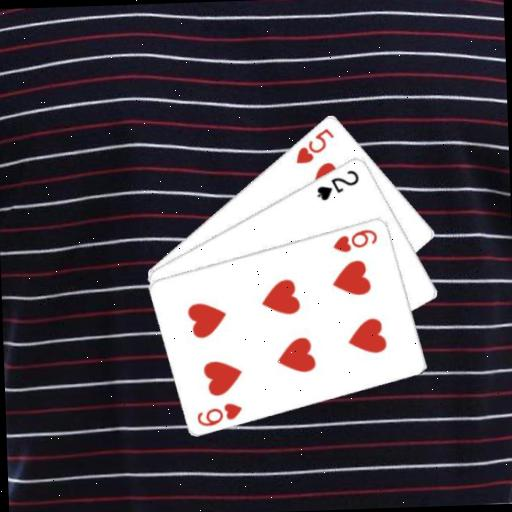2S: (313, 165, 361, 202)
5H: (291, 124, 336, 165)
6H: (193, 399, 244, 428), (329, 225, 379, 254)
